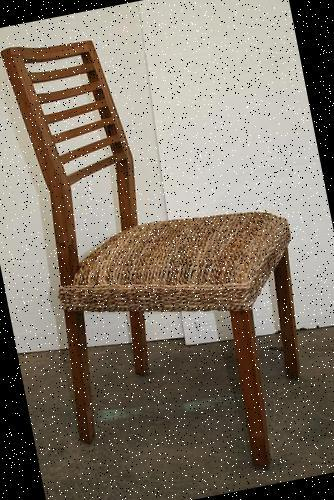Silla: (0, 1, 328, 499)
